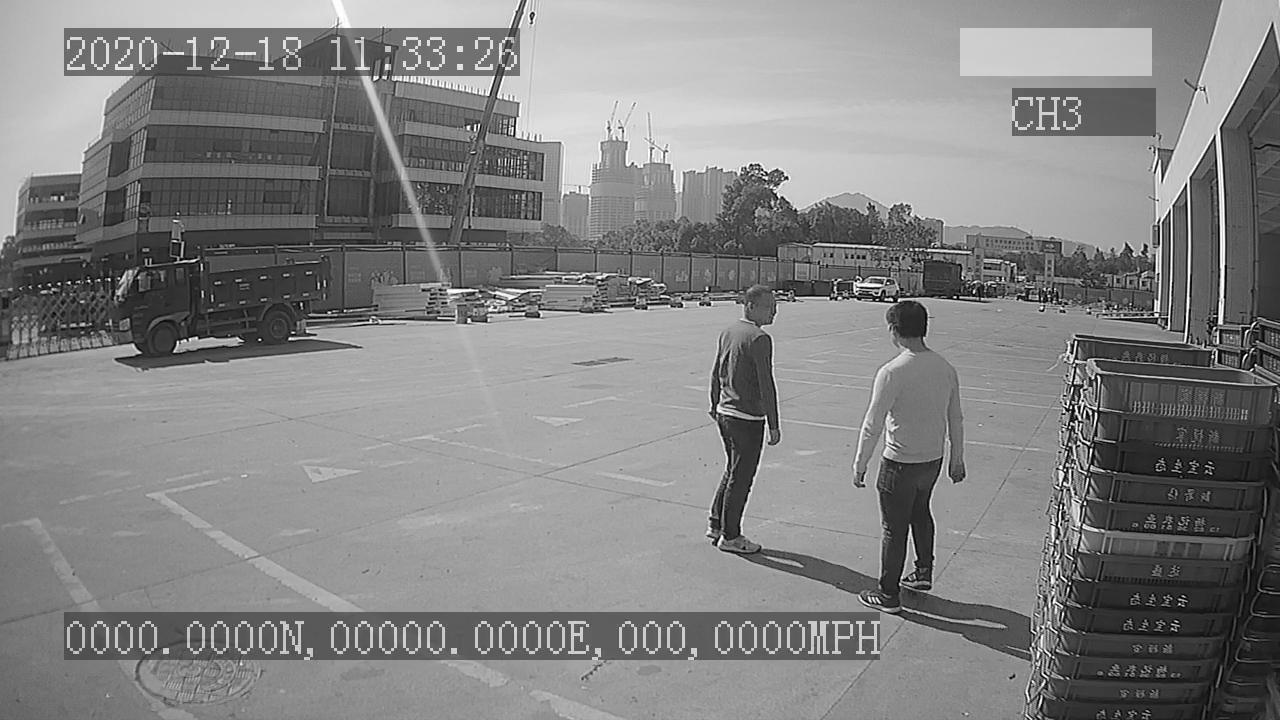person: (852, 300, 964, 612), (706, 285, 785, 556)
